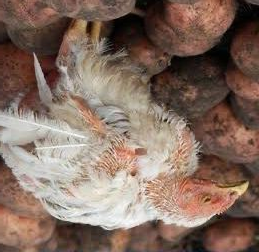Unhealthy: (7, 13, 251, 237)
